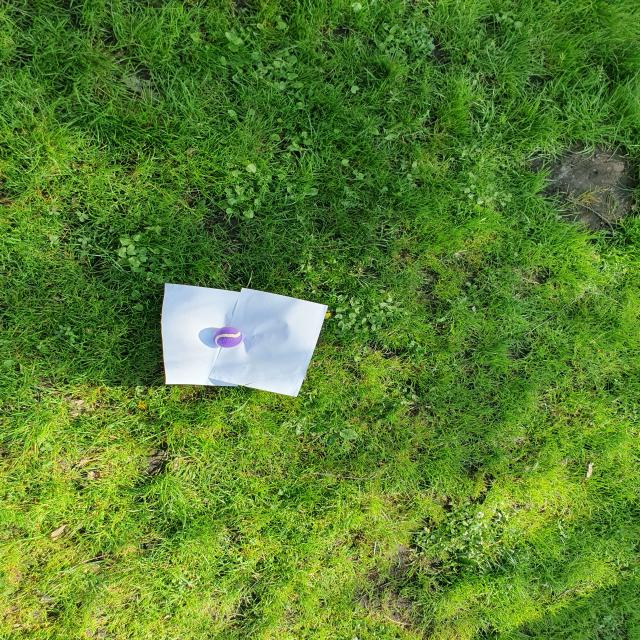purple: (214, 327, 242, 348)
